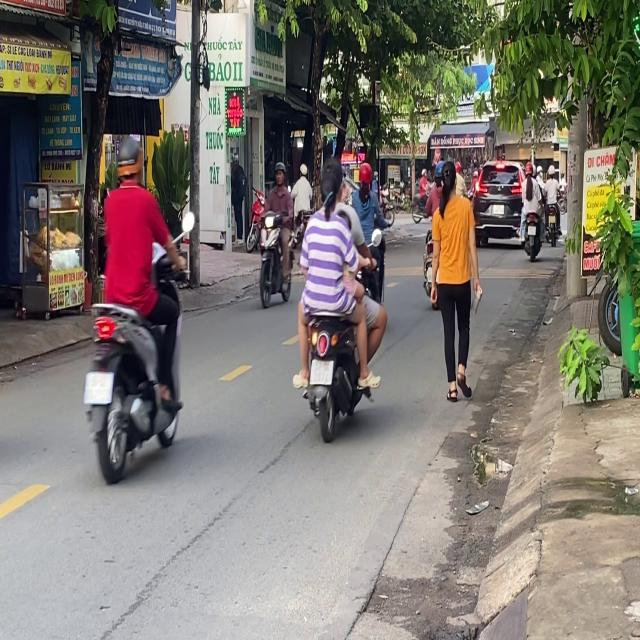helmet: (114, 133, 143, 185), (356, 160, 373, 194), (272, 160, 286, 186)
licenseplate: (82, 132, 186, 480), (291, 152, 387, 440), (255, 160, 294, 307)
motorcyclist: (319, 158, 343, 207)
nohelmet: (84, 371, 112, 402), (310, 360, 334, 385)
